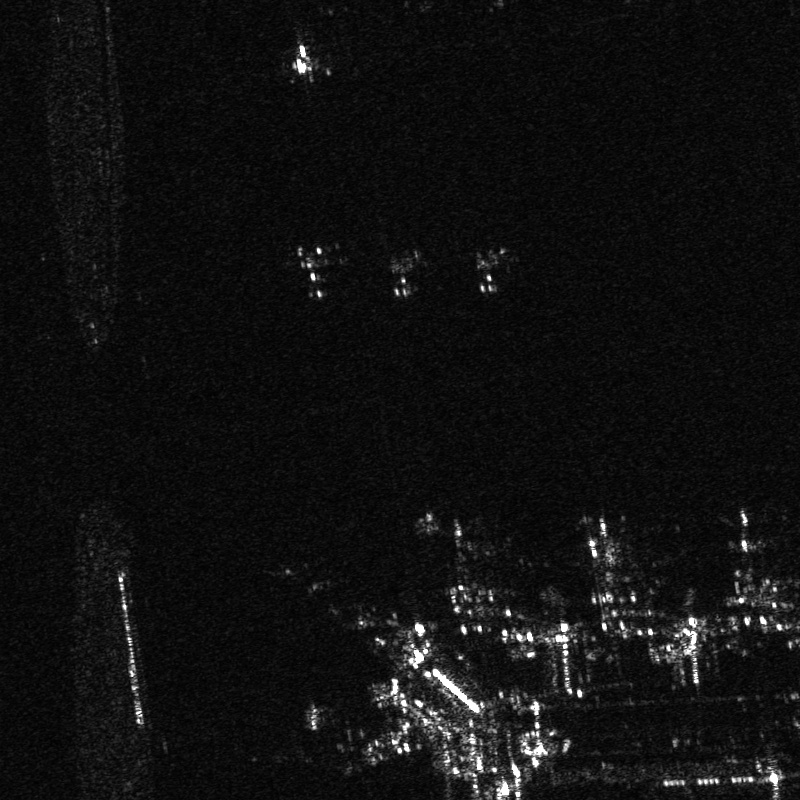A220: (576, 510, 642, 606), (381, 246, 427, 305)
A320/321: (458, 242, 510, 304)
ARJ21: (289, 243, 350, 306), (285, 28, 333, 82)
Boeing787: (715, 503, 774, 583)
other: (430, 510, 509, 620)
